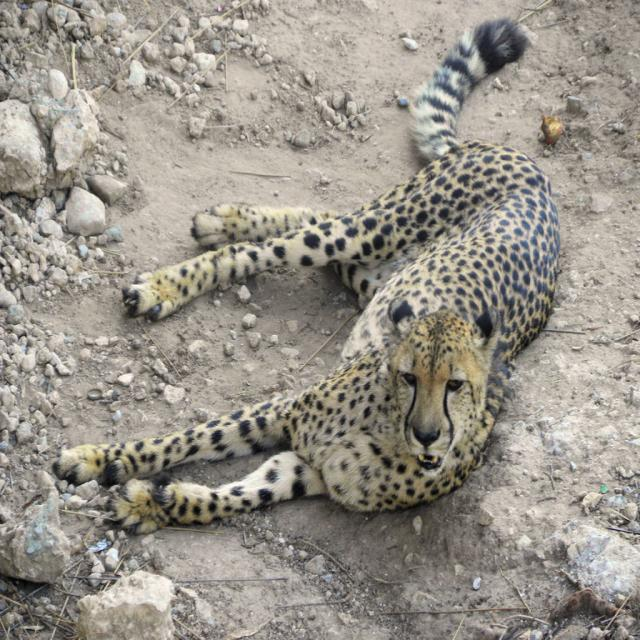Cheetah: (49, 14, 558, 539)
